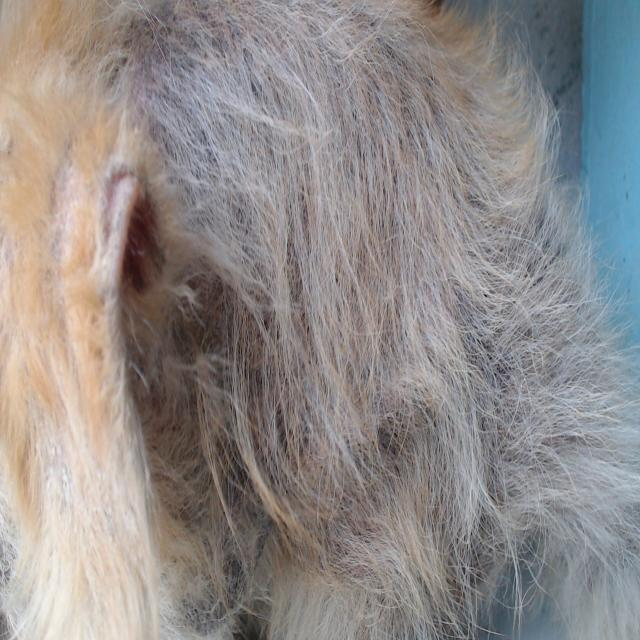demodicosis: (74, 156, 155, 273)
